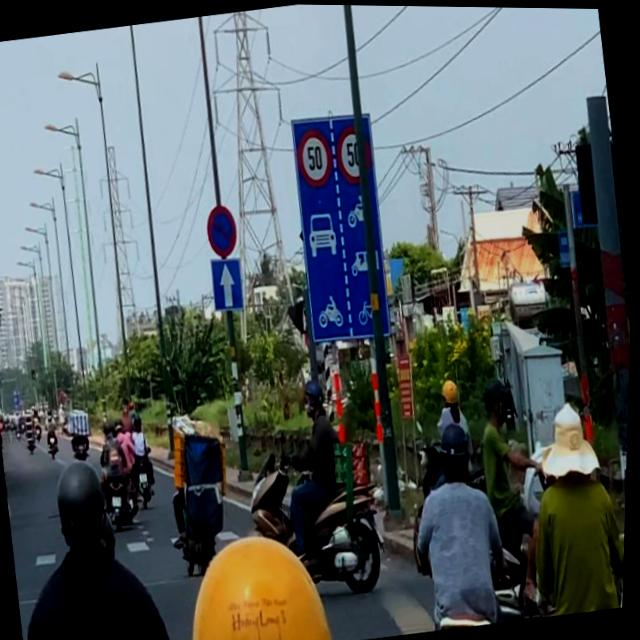Cam do xe: (206, 202, 243, 257)
Duong mot chieu: (212, 257, 247, 311)
